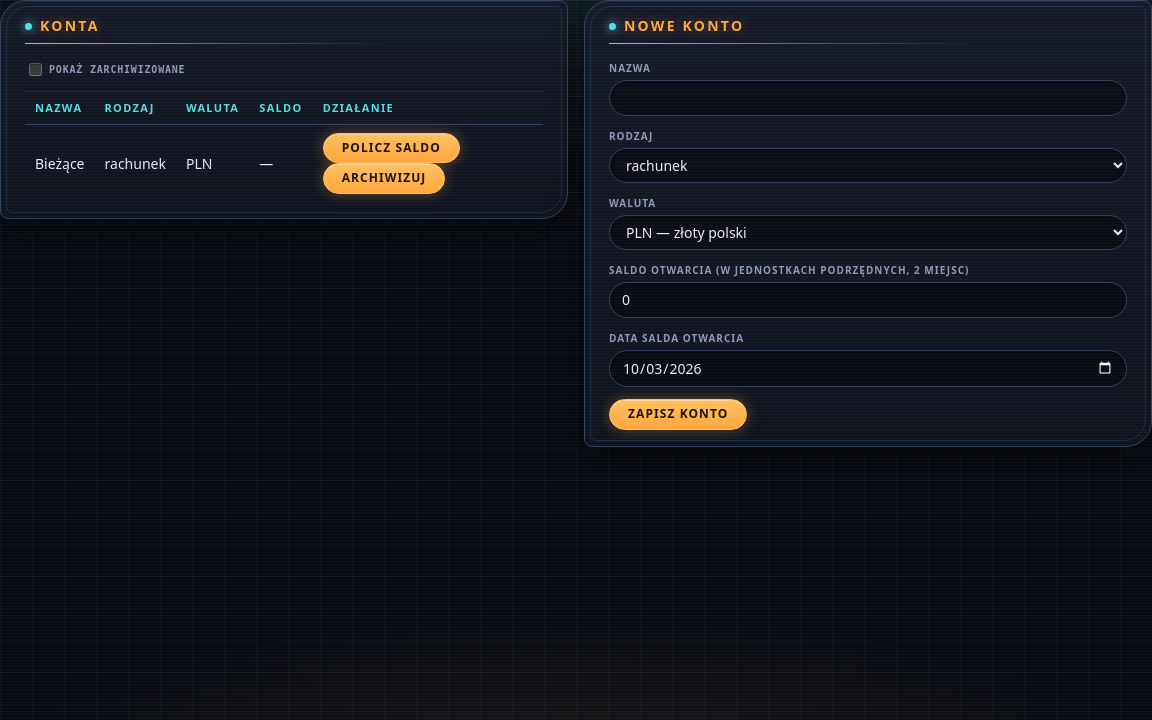
KontaRoute › poprawny formularz wysyła kwotę jako liczbę, nie tekst
expect the cell "Bieżące" is shown: met, box [25, 124, 94, 202]
Step 1. Type "Oszczędnościowe" into the field labelled "Nazwa" → (868, 98), box [609, 80, 1127, 116]
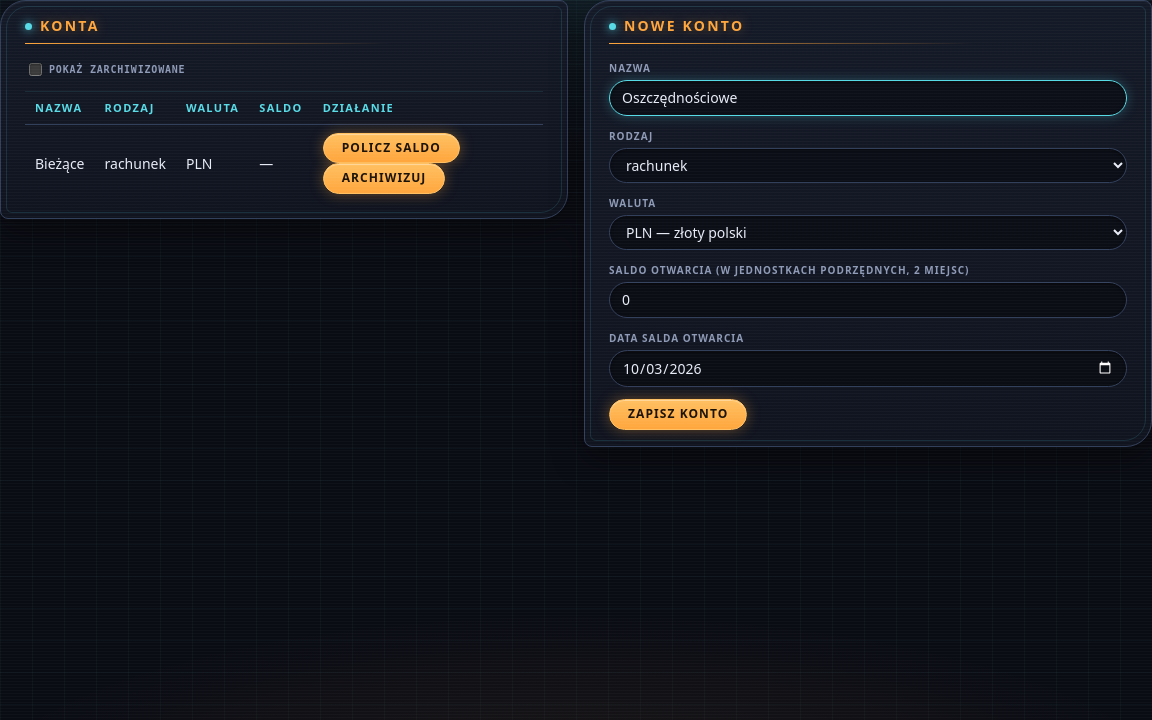
Step 2. Replace the text in the field labelled "Saldo otwarcia (w jednostkach podrzędnych, 2 miejsc)" with "2500" → (868, 300), box [609, 282, 1127, 318]
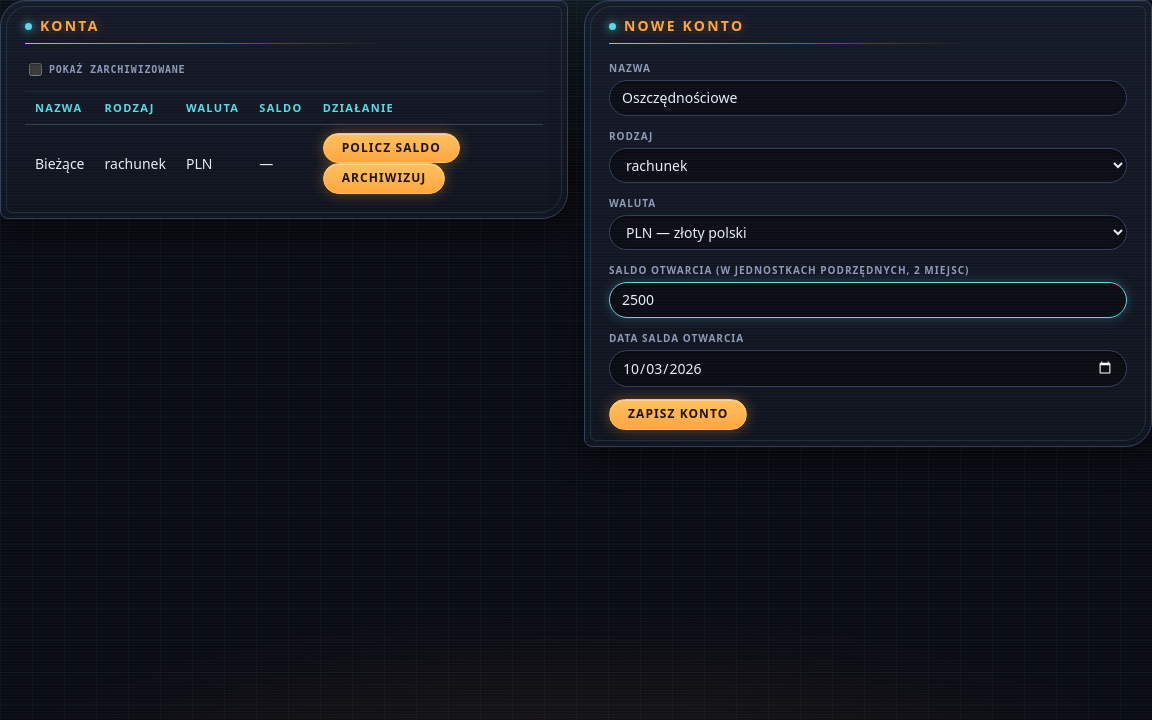
Step 3. Click the button "Zapisz konto" → (678, 415), box [609, 399, 747, 430]
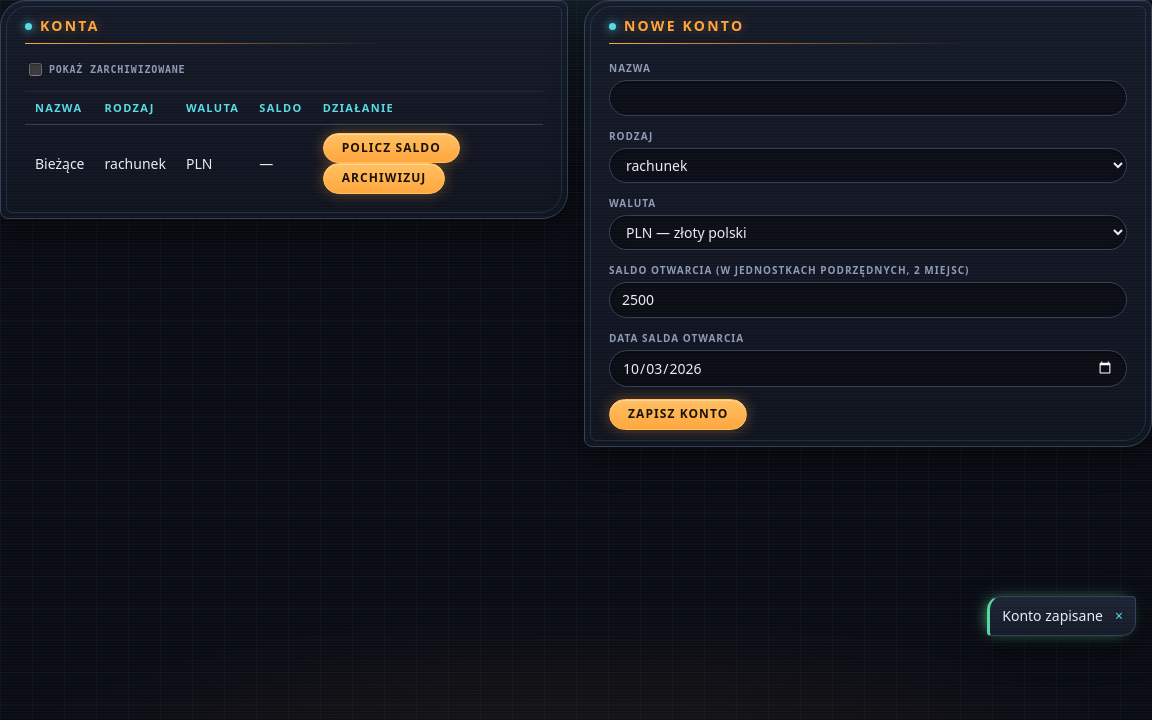
expect the text "Konto zapisane" is shown: met, box [1002, 605, 1103, 627]
